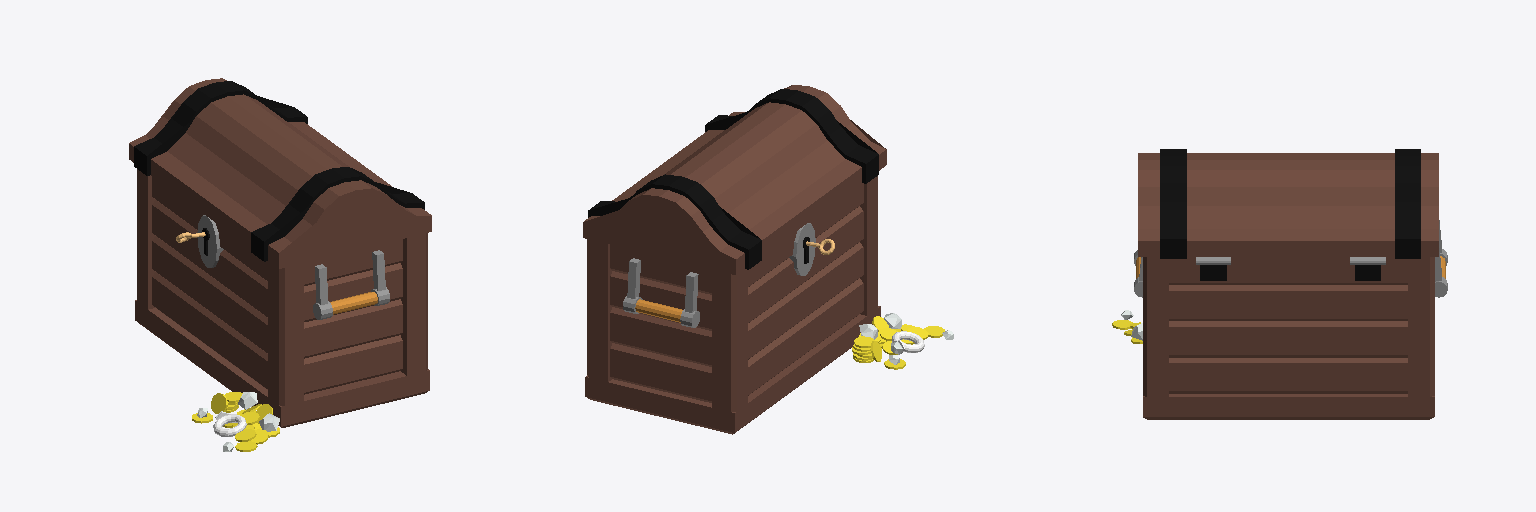
3 renders of one model, left to right at view 1: azimuth 30°, elevation 25°; view 2: azimuth 150°, elevation 25°; view 3: azimuth 270°, elevation 25°, orthographic.
Parts seen in each view (by area): view 1: group[number redacted], group[number redacted], group[number redacted]; view 2: group[number redacted], group[number redacted], group[number redacted]; view 3: group[number redacted], group[number redacted], group[number redacted], group[number redacted], group[number redacted], group[number redacted].
Boxes of the visible parts, box(x1,y1,x2,y2) form: group[number redacted]: box(129, 78, 431, 451); group[number redacted]: box(401, 233, 427, 375); group[number redacted]: box(134, 81, 307, 175); group[number redacted]: box(583, 85, 953, 434); group[number redacted]: box(588, 174, 761, 269); group[number redacted]: box(587, 239, 611, 381); group[number redacted]: box(1112, 149, 1447, 419); group[number redacted]: box(1408, 257, 1434, 396); group[number redacted]: box(1143, 257, 1168, 396); group[number redacted]: box(1395, 149, 1420, 258); group[number redacted]: box(1196, 257, 1230, 280); group[number redacted]: box(1350, 257, 1385, 280).
Bounding box in the file's own units: 0.5706 × 0.5715 × 0.7587.